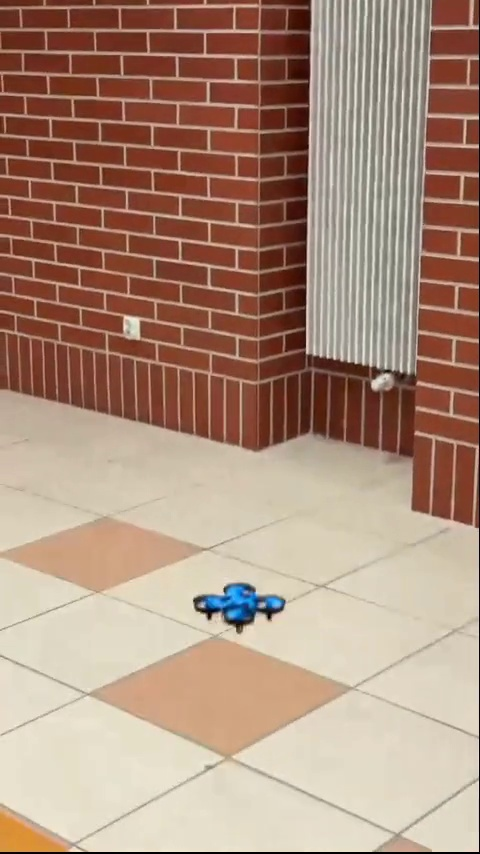drone: (196, 577, 286, 632)
